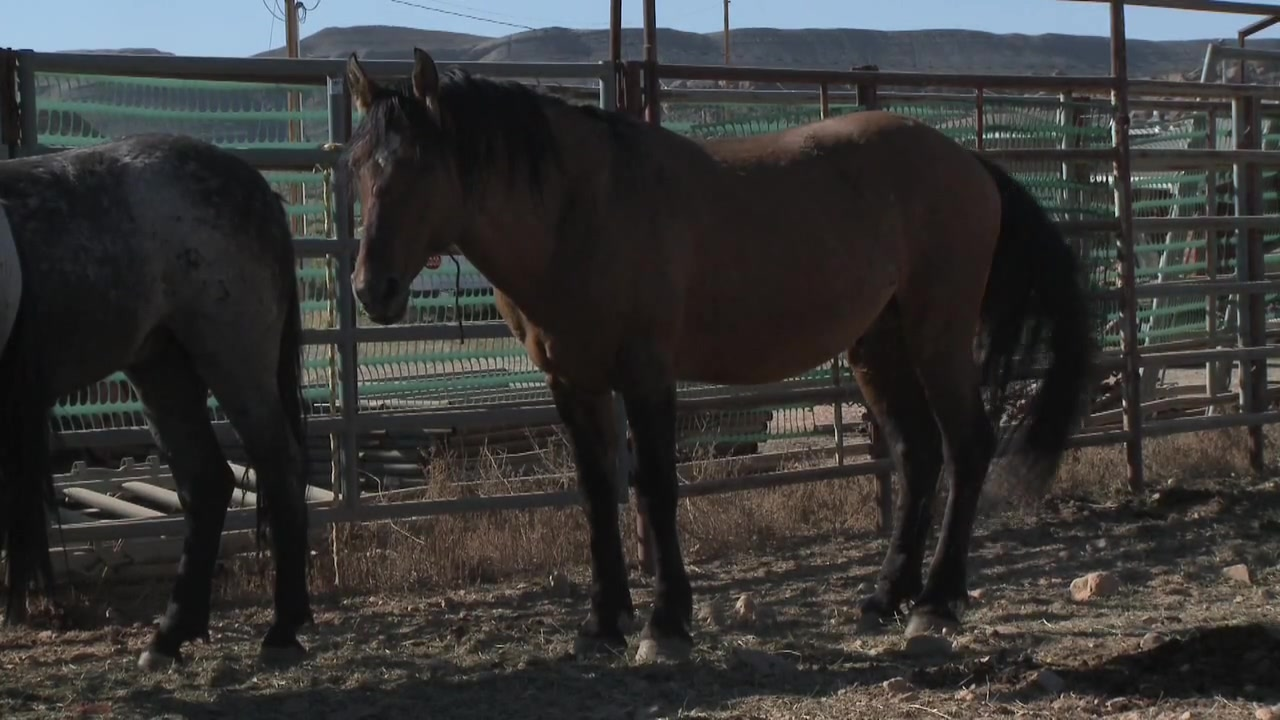horse: (342, 45, 1098, 666), (1, 132, 319, 682)
